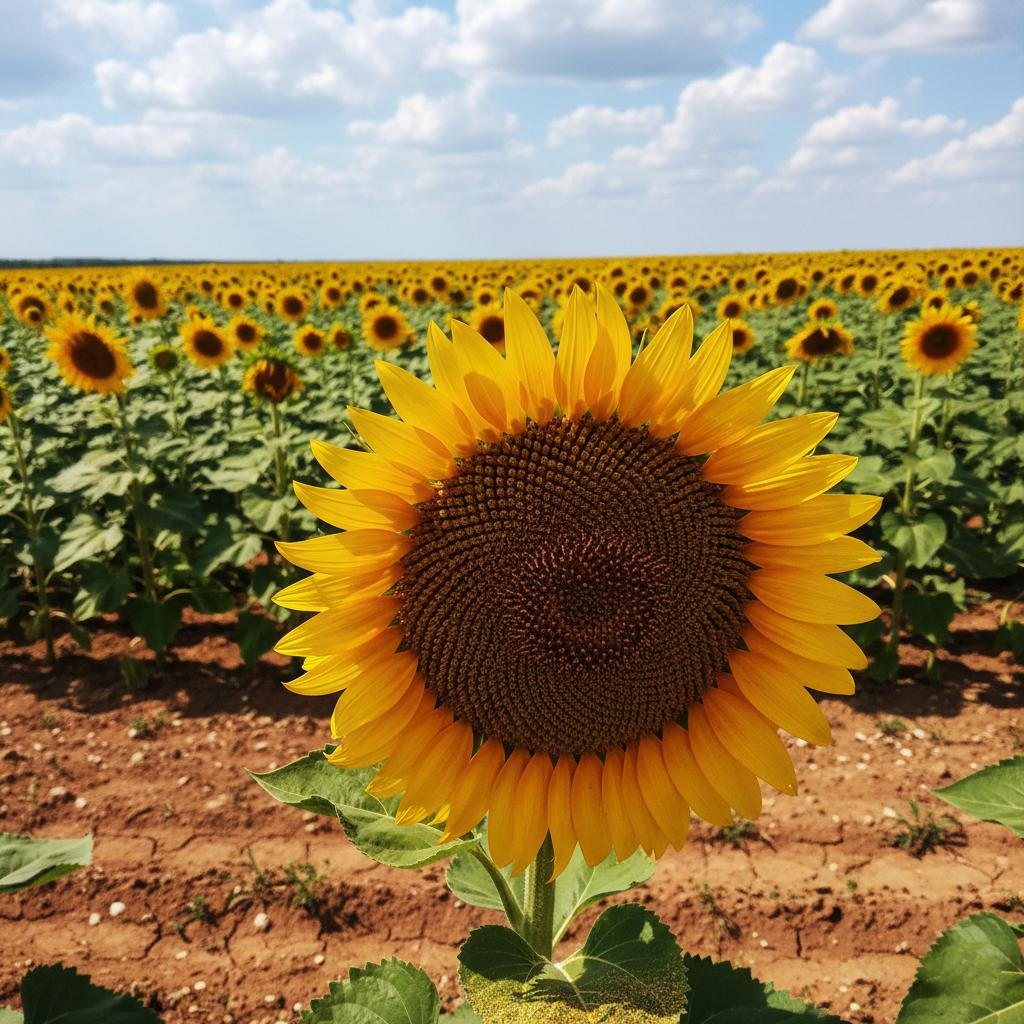rose: (269, 278, 884, 880)
